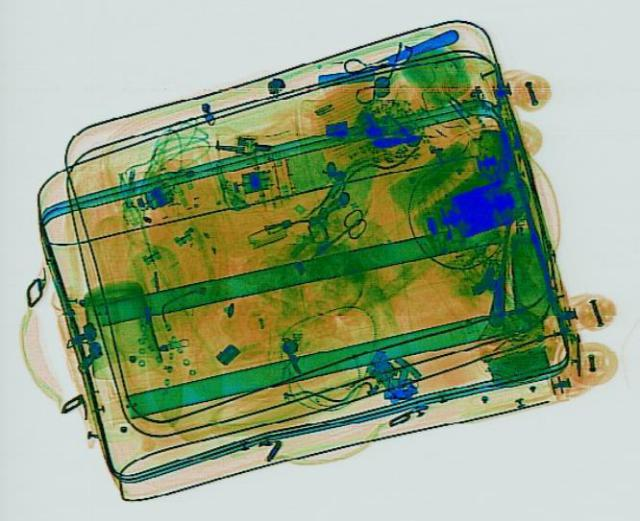Scissors: (299, 206, 377, 265)
